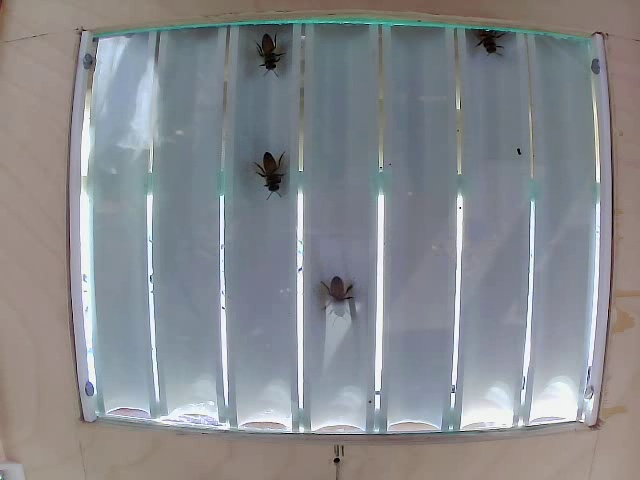bee: (310, 263, 353, 333), (257, 21, 297, 75), (253, 150, 297, 198), (473, 25, 512, 65)
